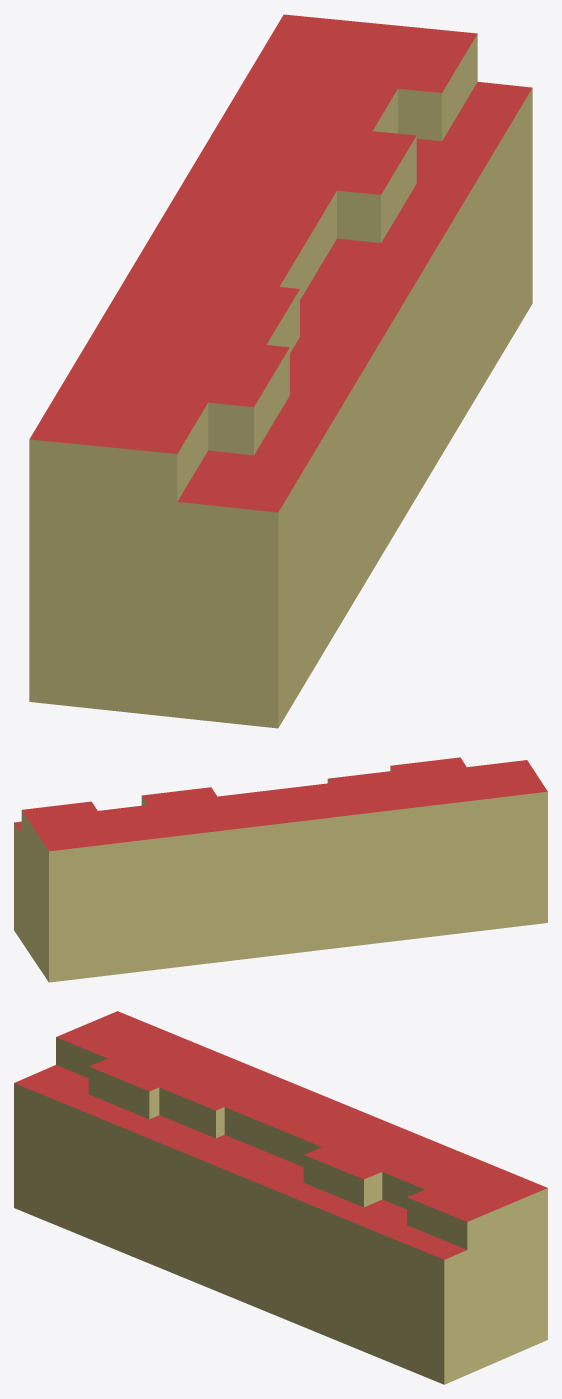
3 renders of one model, top to bottom at view 1: azimuth 30°, elevation 25°; view 2: azimuth 150°, elevation 25°; view 3: azimuth 270°, elevation 25°, orthographic. The views are drawn at different scales.
Visible parts, largest first — view 1: group_4, group_6, group_7, group_3; view 2: group_7, group_6, group_4; view 3: group_4, group_6, group_7, group_3.
Boxes of the visible parts, bbox=[...] form: group_4: bbox=[150, 88, 532, 728]; group_6: bbox=[29, 14, 477, 453]; group_7: bbox=[29, 34, 477, 714]; group_3: bbox=[177, 81, 532, 512]; group_7: bbox=[21, 766, 547, 982]; group_6: bbox=[22, 757, 547, 851]; group_4: bbox=[14, 823, 31, 956]; group_4: bbox=[14, 1083, 497, 1384]; group_6: bbox=[56, 1011, 547, 1221]; group_7: bbox=[56, 1037, 547, 1361]; group_3: bbox=[14, 1065, 466, 1259].
Size of the model in its own units: 38.84 by 39.51 by 12.48.
